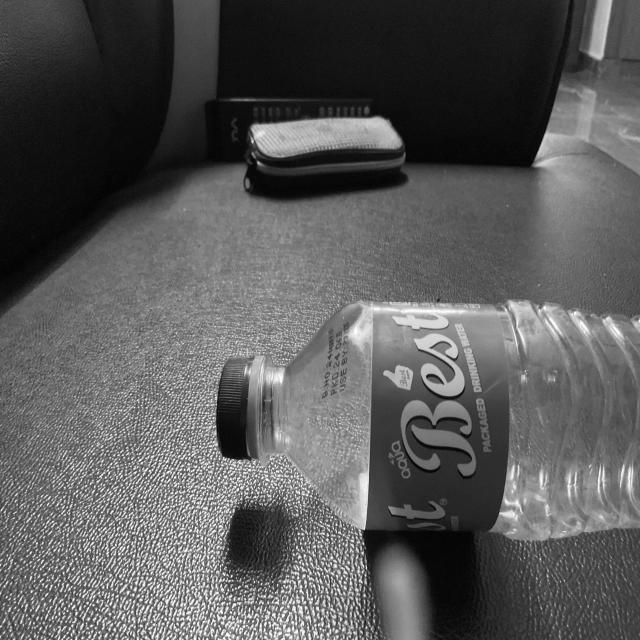Good-cap-Df0S: (214, 353, 268, 467)
